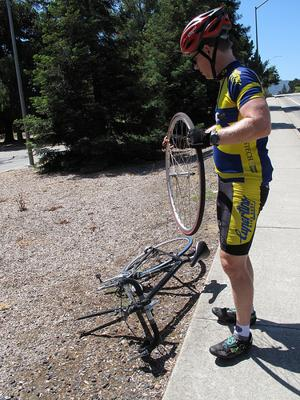person: (161, 6, 274, 365)
